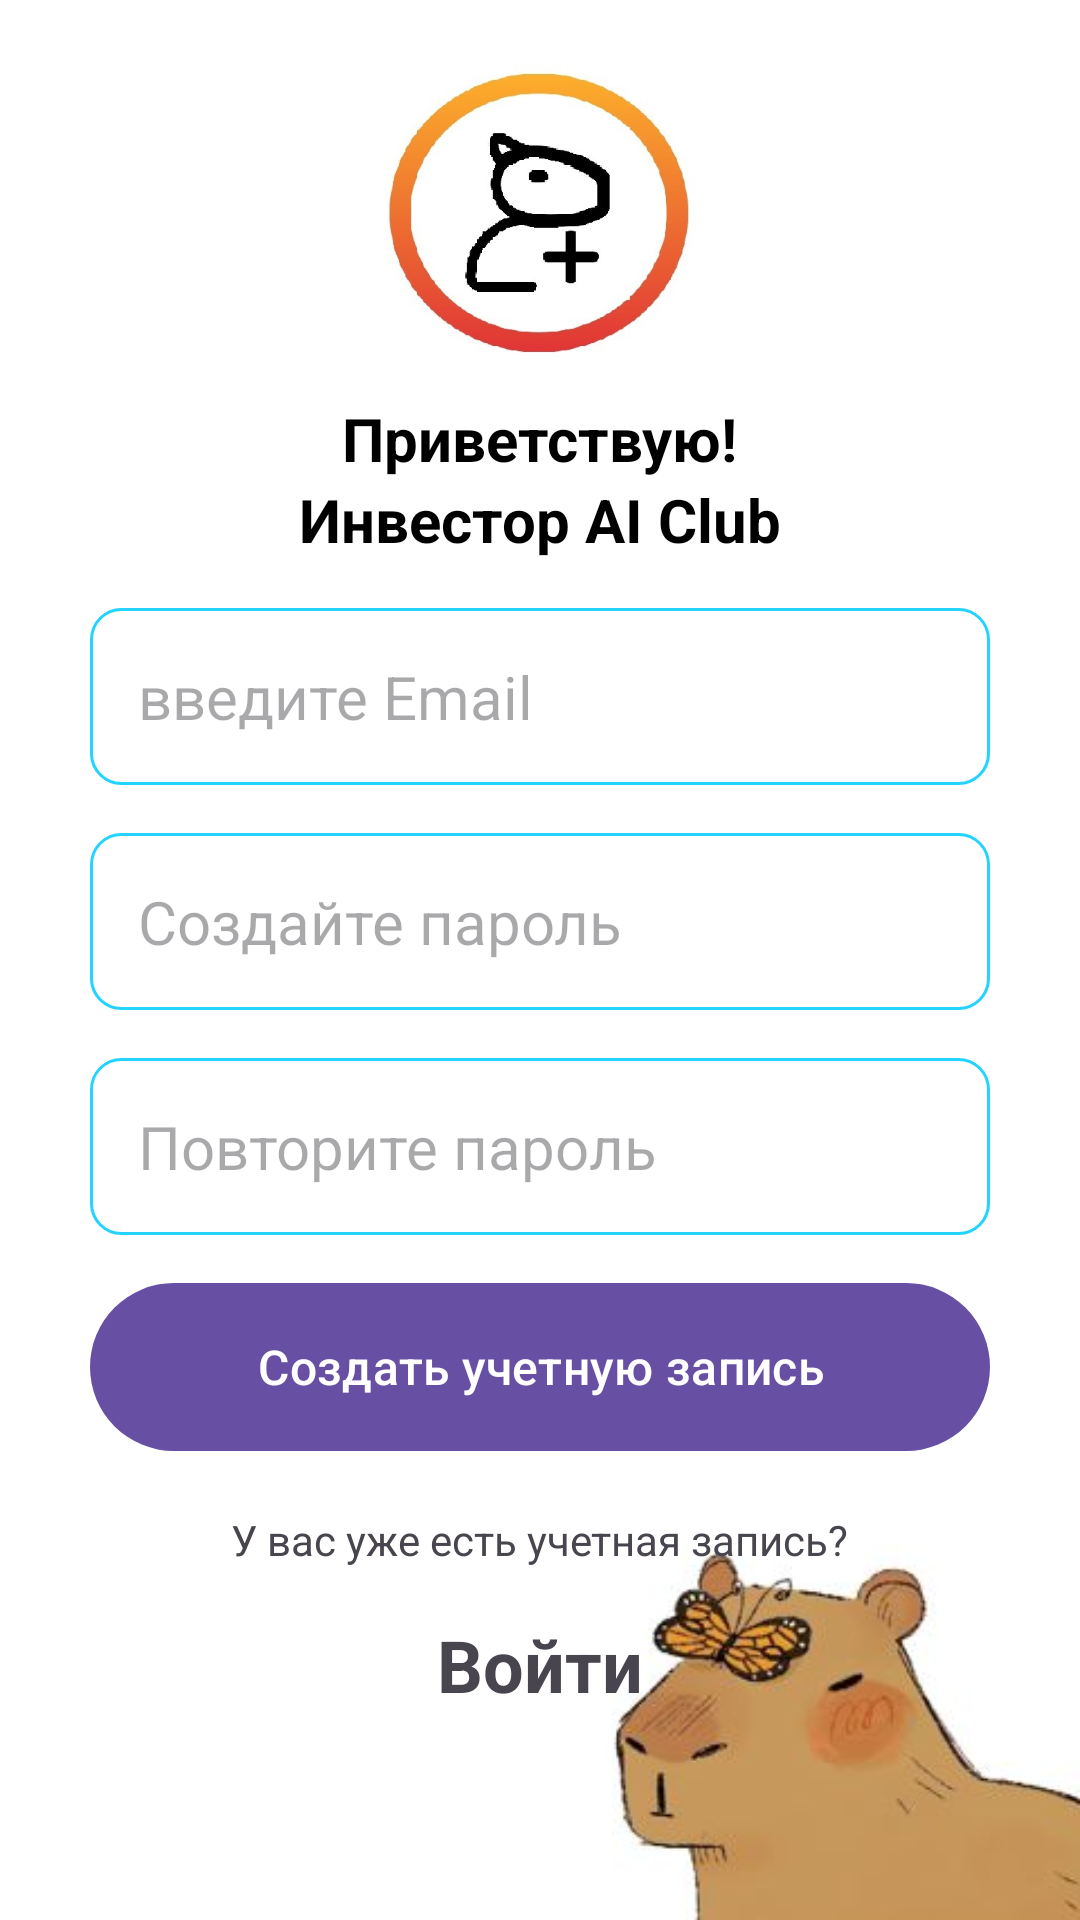

Where icons sit on this 1080*1920 app screen, as detection(x1, y1, x2, y2):
kapi plus: detection(389, 73, 689, 352)
